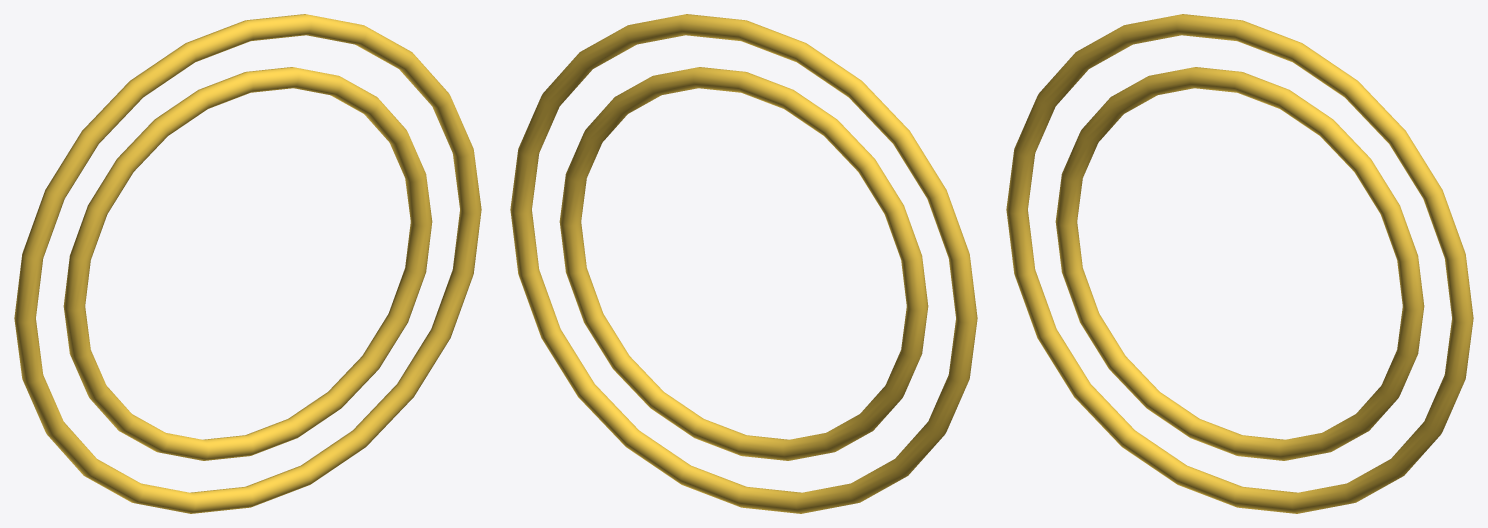
Rendered from ring.fbx.
The picture shows the model from 3 angles, left to right: view 1: azimuth 30°, elevation 25°; view 2: azimuth 150°, elevation 25°; view 3: azimuth 330°, elevation 25°; orthographic projection.
Visible parts, largest first — view 1: Torus001, Torus002; view 2: Torus001, Torus002; view 3: Torus001, Torus002.
Boxes of the visible parts, box(x1,y1,x2,y2) form: Torus001: box(14, 14, 481, 513); Torus002: box(63, 67, 432, 460); Torus001: box(510, 14, 977, 513); Torus002: box(559, 67, 928, 460); Torus001: box(1006, 14, 1473, 513); Torus002: box(1055, 67, 1424, 460).
Size of the model in its own units: 174 by 174 by 7.
